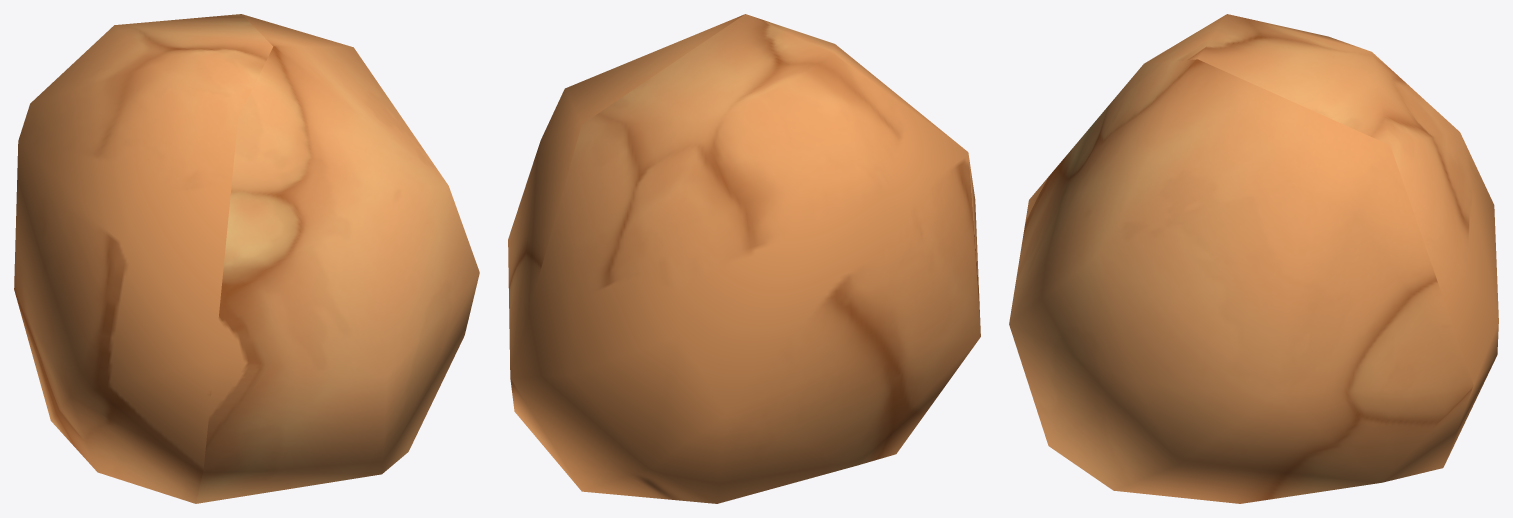
The model's file is Subrock_1.fbx.
The picture shows the model from 3 angles, left to right: view 1: azimuth 30°, elevation 25°; view 2: azimuth 150°, elevation 25°; view 3: azimuth 270°, elevation 25°; orthographic projection. The views are drawn at different scales.
Visible parts, largest first — view 1: Rock_1_LOD0; view 2: Rock_1_LOD0; view 3: Rock_1_LOD0.
Part boxes in pixels (left/top/right/bottom): Rock_1_LOD0: left=14, top=14, right=479, bottom=503; Rock_1_LOD0: left=508, top=14, right=980, bottom=503; Rock_1_LOD0: left=1009, top=14, right=1498, bottom=503.
Size of what is drawn, in the model's own units: 29.36 by 26.71 by 30.4.
